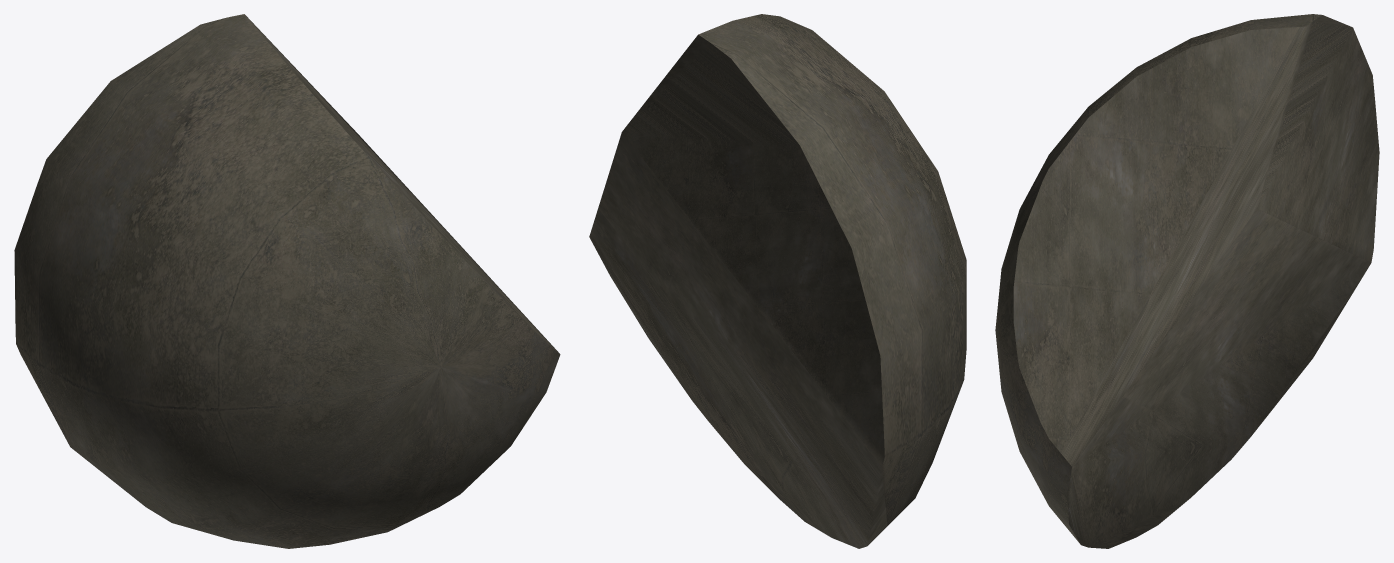
The picture shows the model from 3 angles, left to right: view 1: azimuth 30°, elevation 25°; view 2: azimuth 150°, elevation 25°; view 3: azimuth 270°, elevation 25°; orthographic projection. The views are drawn at different scales.
Visible parts, largest first — view 1: Sphere_cell.006; view 2: Sphere_cell.006; view 3: Sphere_cell.006.
Part boxes in pixels (x1=…): Sphere_cell.006: x1=14, y1=14, x2=560, y2=548; Sphere_cell.006: x1=589, y1=14, x2=966, y2=548; Sphere_cell.006: x1=995, y1=14, x2=1379, y2=548.
Size of the model in its own units: 3.62 by 4.04 by 2.75.
Materials: 1 (1 with a texture image).
